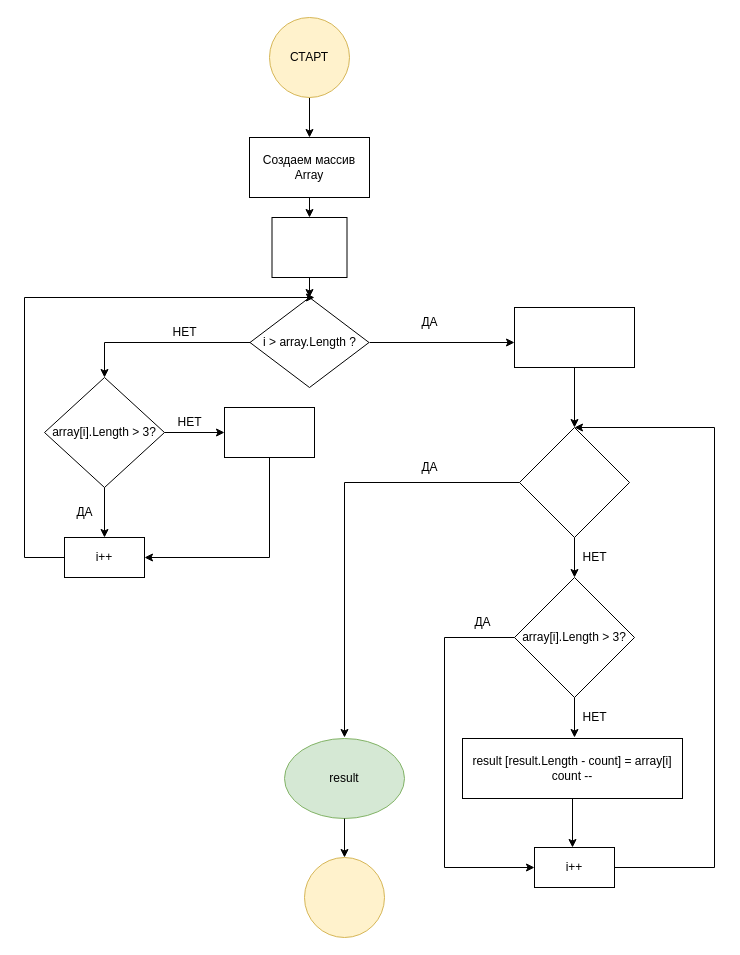
Image size: 740x955. Some labels were removed from this diagram. Each missing label, with the centre of its shape:
"count = 0 i = 0" belongs at point 309,247.
"count++" belongs at point 269,432.
"i > array.Length?" belongs at point 574,482.
"string [] result = new string [count] i = 0" belongs at point 574,337.
"КОНЕЦ" belongs at point 344,897.
